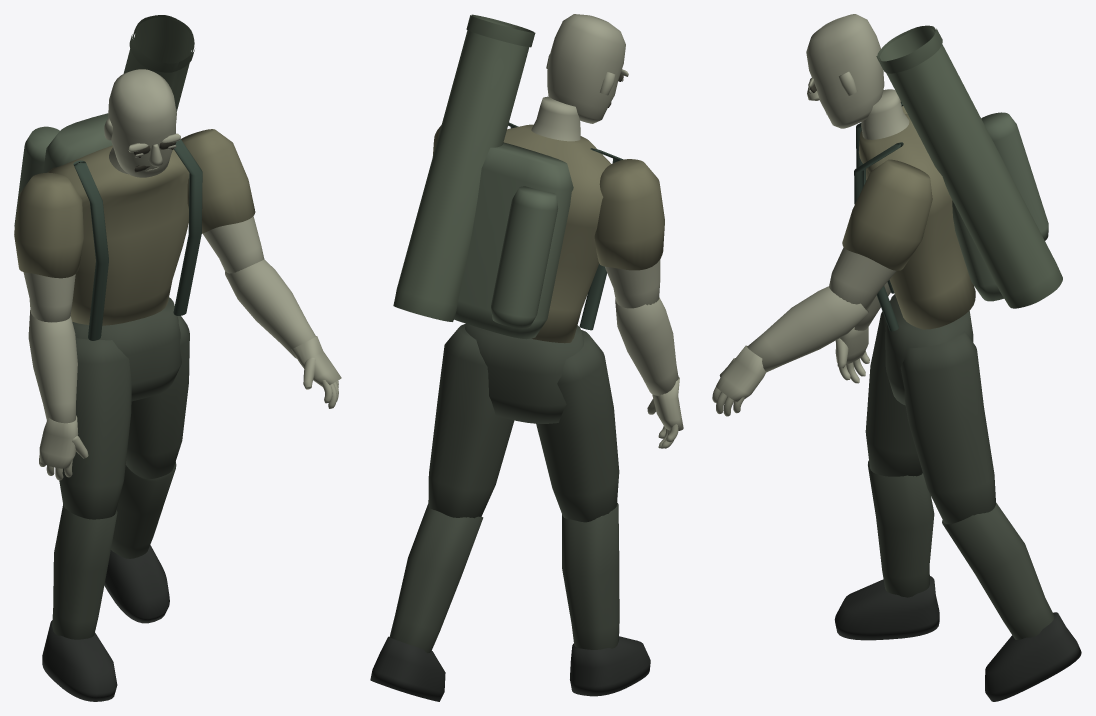
The model's file is enemy-lab-artillery.glb.
3 views of the same model, side by side, from view 1: azimuth 30°, elevation 25°; view 2: azimuth 150°, elevation 25°; view 3: azimuth 270°, elevation 25° (orthographic). The views are drawn at different scales.
Parts seen in each view (by area): view 1: Chest, Trouser thigh_L, Trouser shin_L, Short sleeve_L, Anatomical head, Trouser thigh_R, Waist, Short sleeve_R, Forearm anatomy_L, Forearm anatomy_R, Shoe_L, Shoe_R (+11 smaller); view 2: Open launcher tube, Trouser thigh_R, Launcher support, Trouser thigh_L, Chest, Trouser shin_R, Trouser shin_L, Waist, Short sleeve_L, Launcher spare canister, Anatomical head, Forearm anatomy_L (+7 smaller); view 3: Open launcher tube, Trouser thigh_R, Chest, Trouser shin_R, Short sleeve_R, Trouser shin_L, Anatomical head, Forearm anatomy_R, Shoe_L, Trouser thigh_L, Shoe_R, Waist (+8 smaller).
Part boxes in pixels (x1,y1,x2,y2): Chest: (48,145,189,325); Trouser thigh_L: (59,338,131,519); Trouser shin_L: (52,504,117,639); Short sleeve_L: (14,172,83,278); Anatomical head: (108,69,176,177); Trouser thigh_R: (125,316,189,479); Waist: (72,297,181,401); Short sleeve_R: (181,129,255,233); Forearm anatomy_L: (28,310,77,423); Forearm anatomy_R: (225,259,315,358); Shoe_L: (42,620,117,701); Shoe_R: (104,545,169,623); Open launcher tube: (393,18,529,321); Trouser thigh_R: (428,323,514,518); Launcher support: (454,142,573,339); Trouser thigh_L: (536,330,619,522); Chest: (503,124,611,343); Trouser shin_R: (389,504,483,653); Trouser shin_L: (562,502,619,649); Waist: (465,323,583,423); Short sleeve_L: (594,159,664,270); Launcher spare canister: (491,186,557,328); Anatomical head: (547,14,625,123); Forearm anatomy_L: (615,297,678,395); Open launcher tube: (878,28,1062,308); Trouser thigh_R: (900,331,995,524); Chest: (859,114,975,329); Trouser shin_R: (942,502,1054,639); Short sleeve_R: (842,159,932,270); Trouser shin_L: (868,460,934,597); Anatomical head: (806,14,884,128); Forearm anatomy_R: (747,286,868,372); Shoe_L: (834,576,939,640); Trouser thigh_L: (865,311,922,476); Shoe_R: (985,612,1081,701); Waist: (885,294,973,405).
Bounding box in the file's own units: 0.681 × 1.71 × 0.8764.
